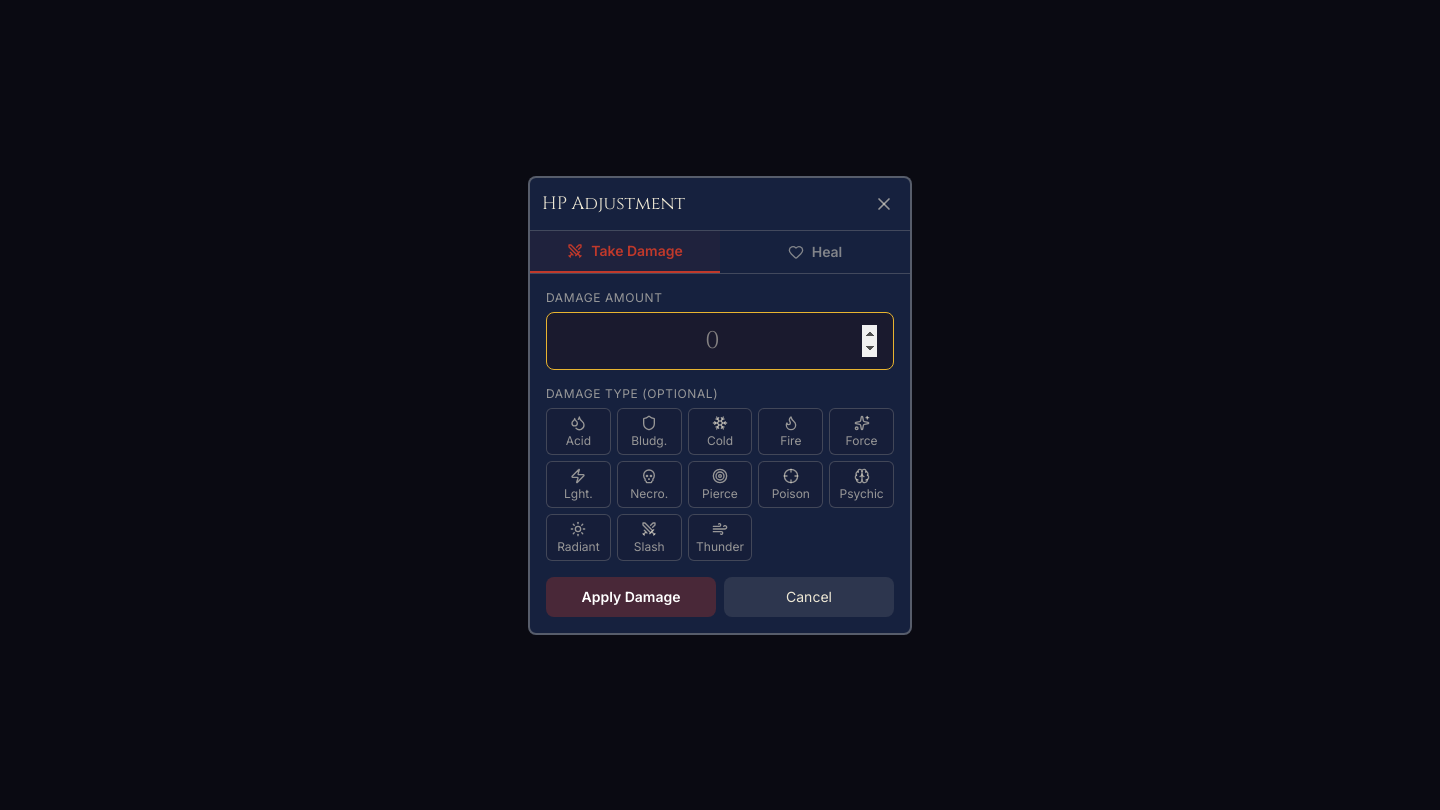
Test case: DamageHealModal › should switch to heal tab when clicked
What coordinates should you click on to do the following:
click the button with test id "tab-heal"
I would click on:
 (815, 252)
Its box is [720,230,910,272].
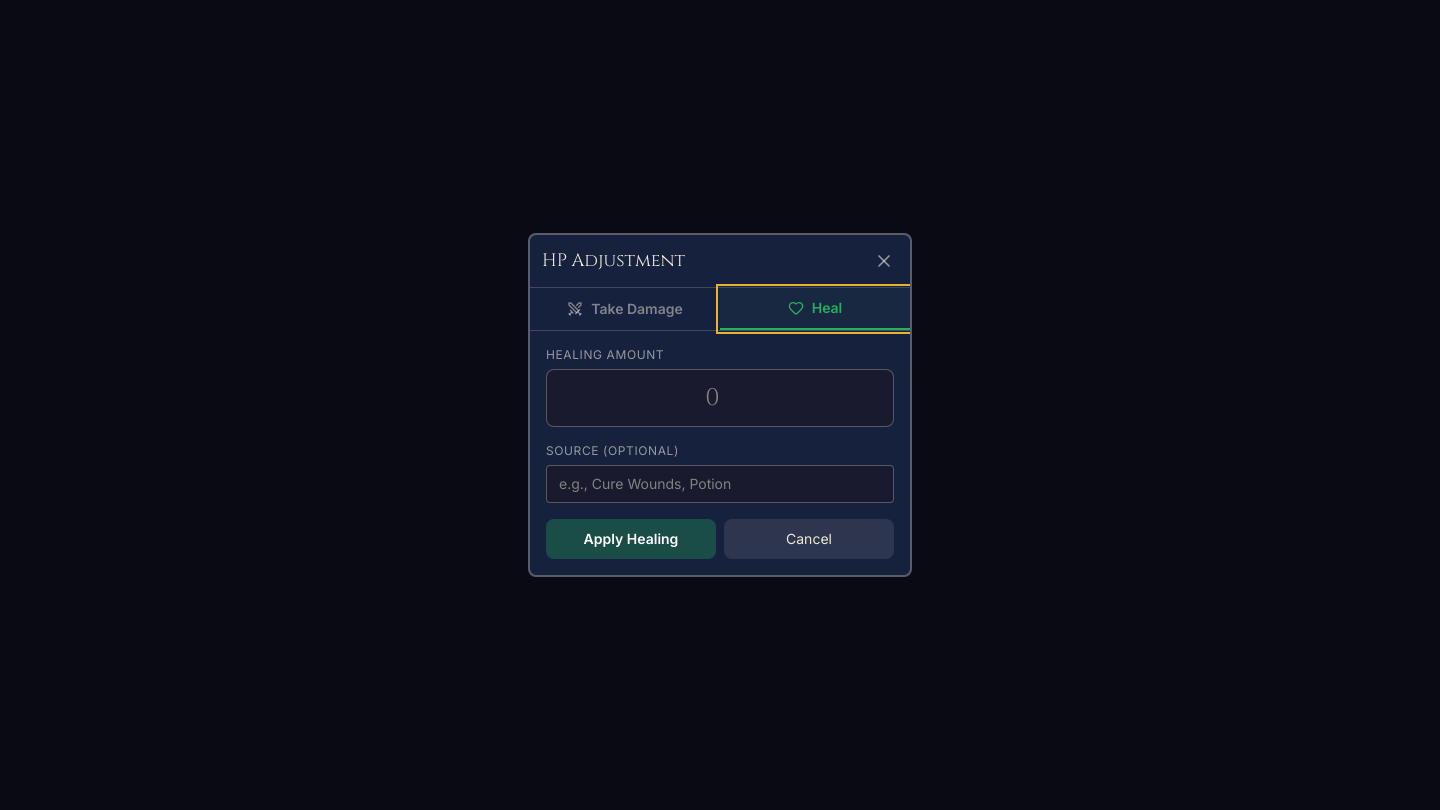
Expected: the text "Healing Amount" is shown, [546,347,664,362]
